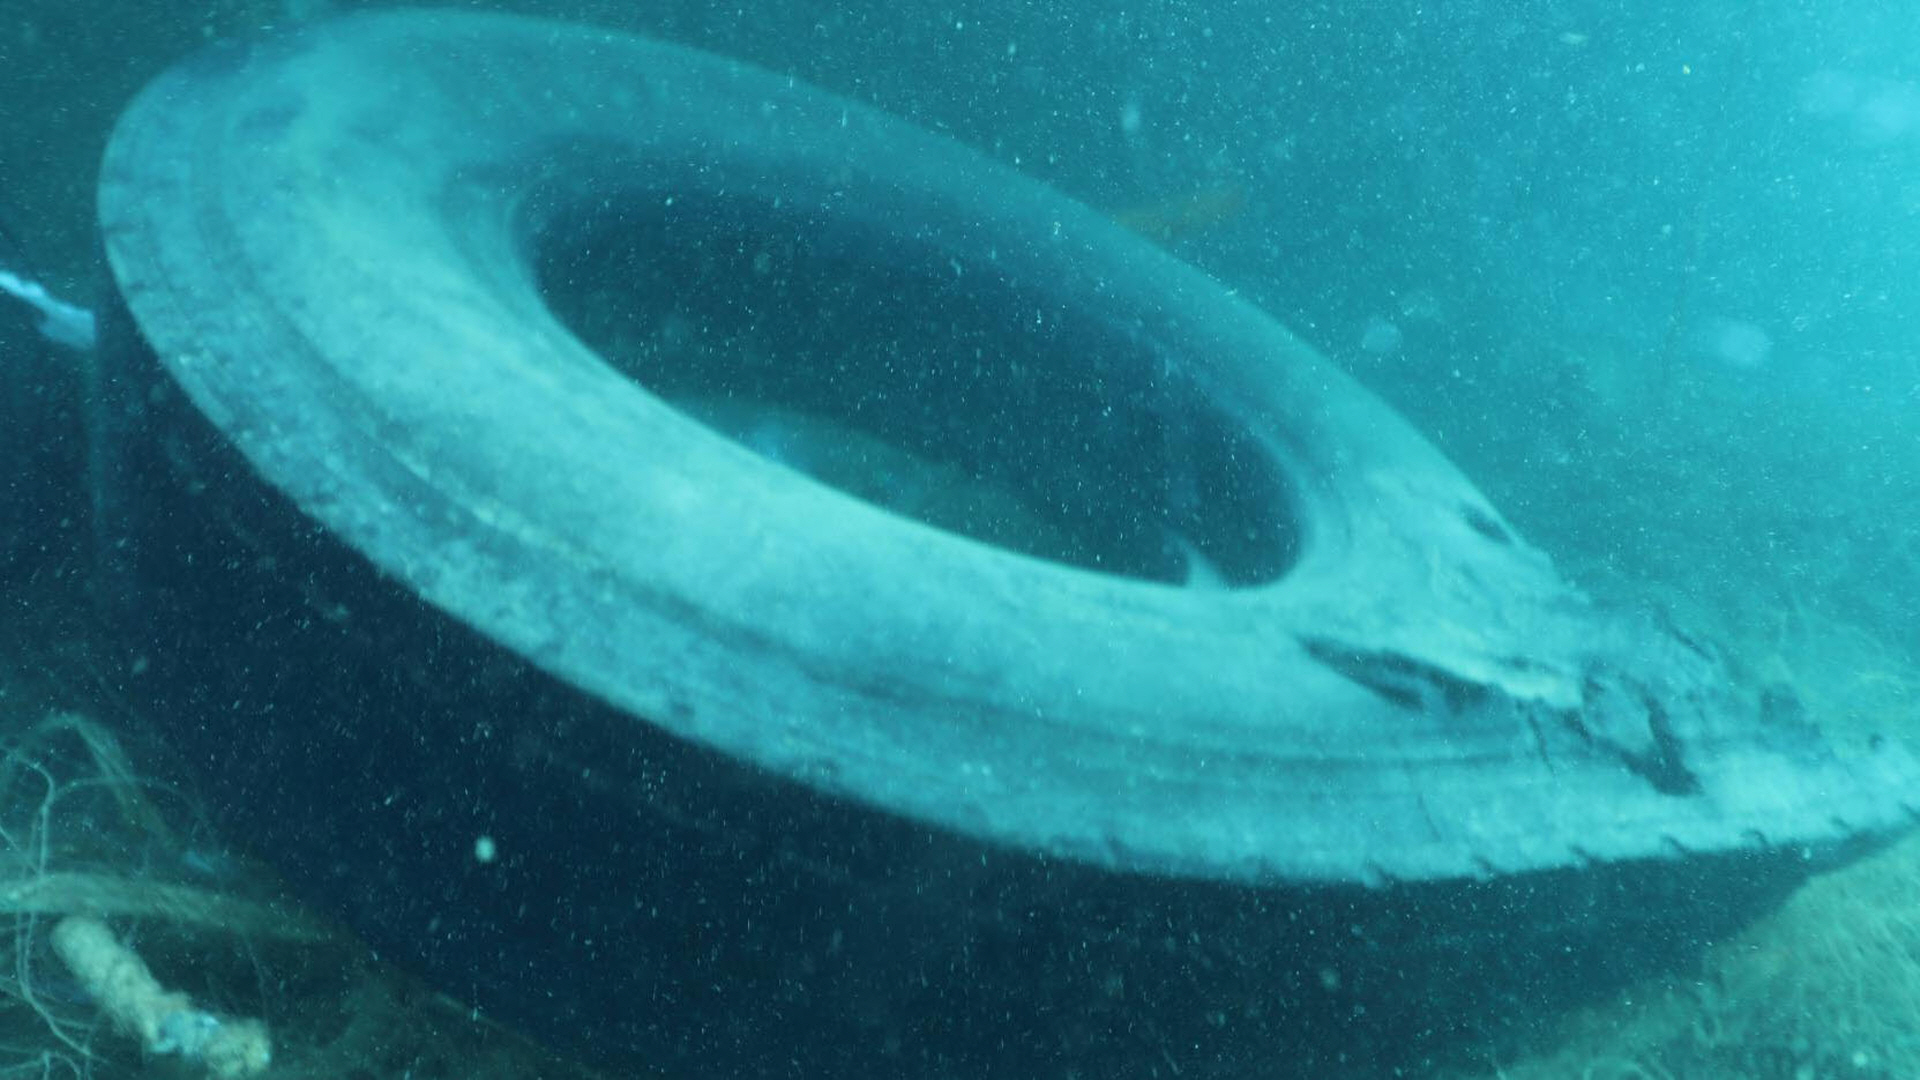tire: (91, 3, 1920, 1080)
